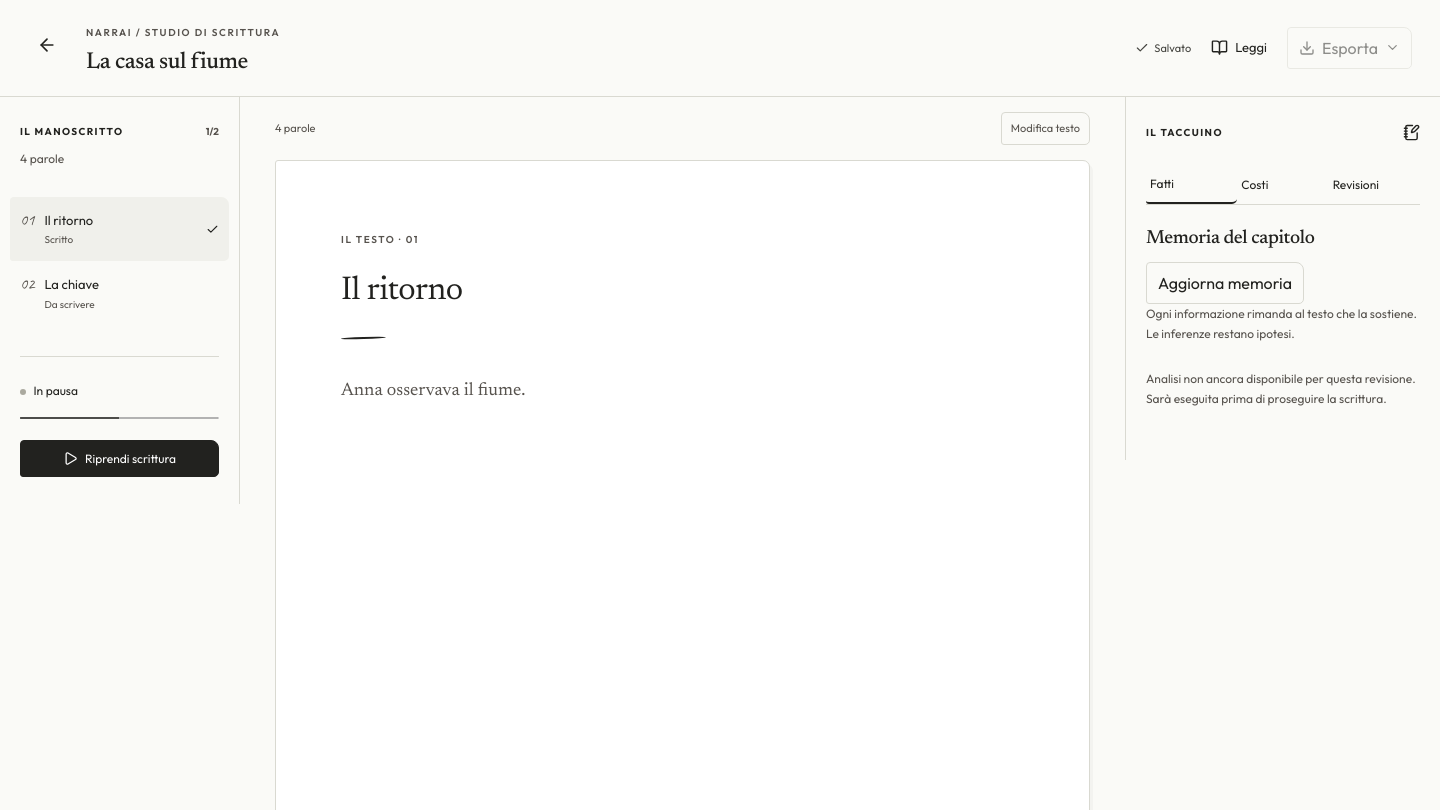
Scenario: Manuscript studio › labels missing consumption as partial instead of zero
Click the button "Costi" at (1283, 185), box [1237, 166, 1329, 204]
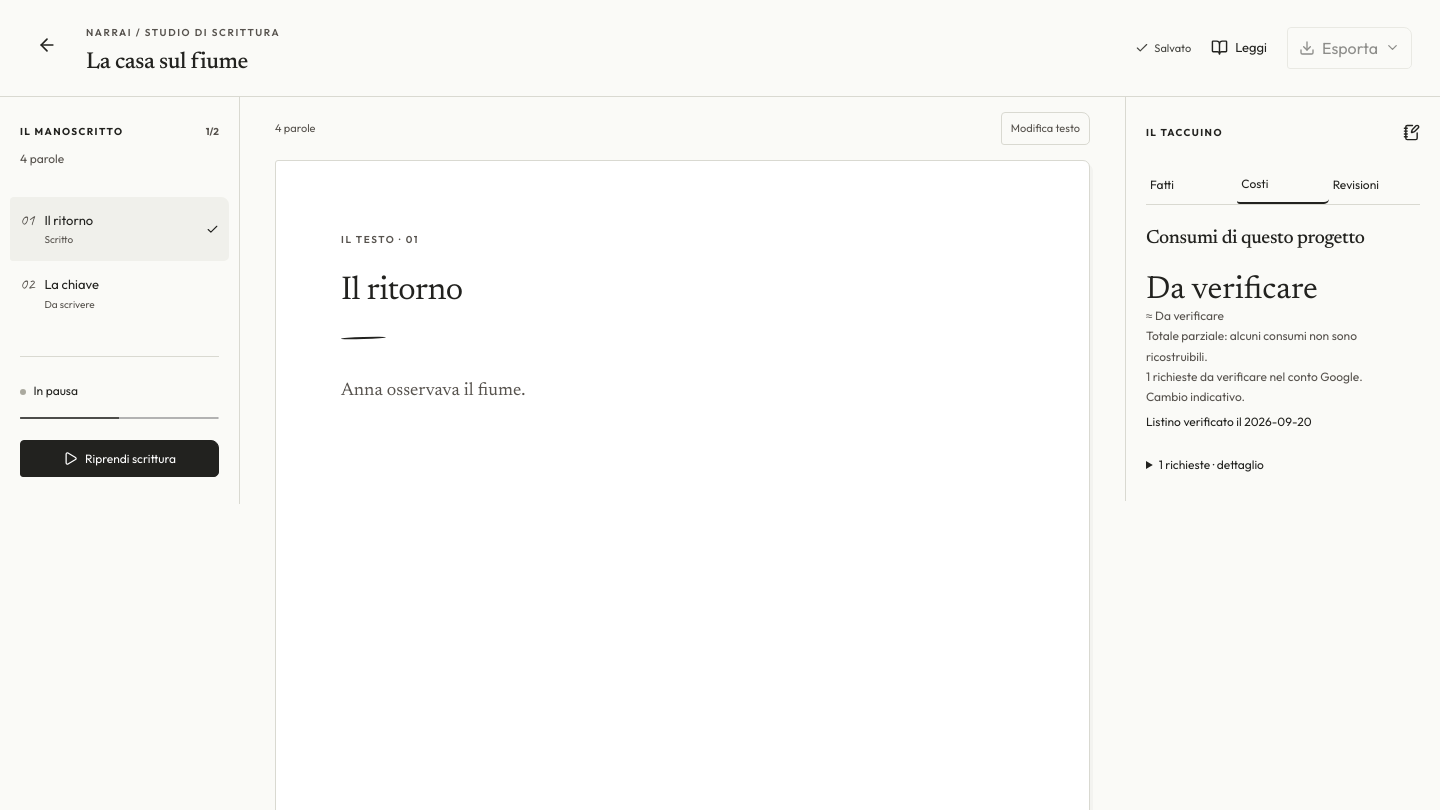
Check: the text "Totale parziale: alcuni consumi non sono ricostruibili." is shown, box [1146, 328, 1357, 364]
Check: the text "1 richieste da verificare nel conto Google." is shown, box [1146, 369, 1363, 384]
